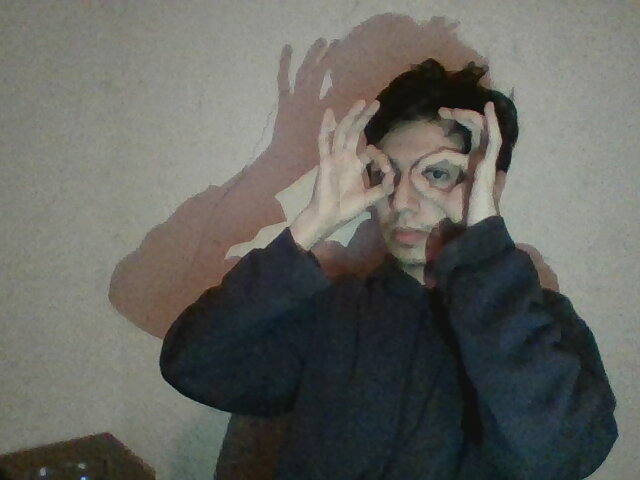buho: (304, 92, 519, 236)
